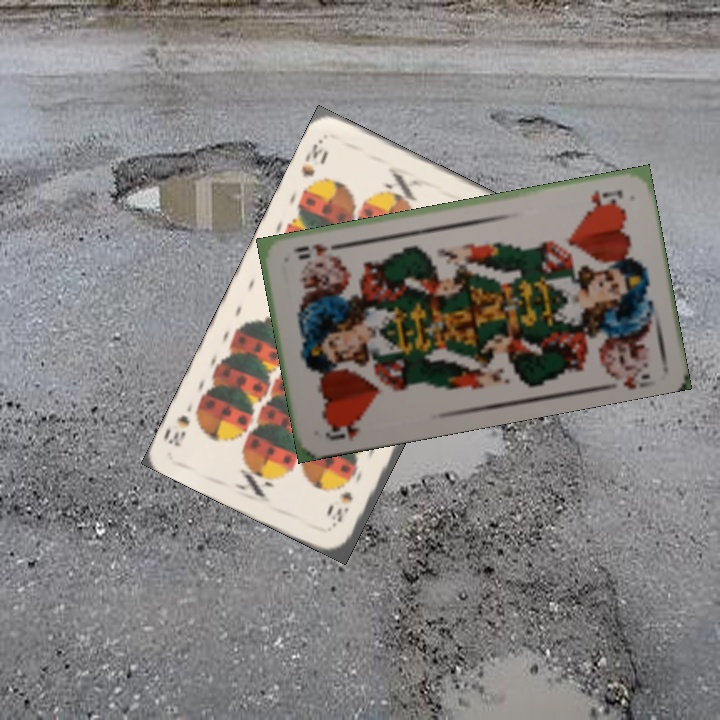HO: (321, 415, 364, 443), (587, 185, 626, 210)
S10: (297, 135, 331, 180), (328, 487, 355, 530)
